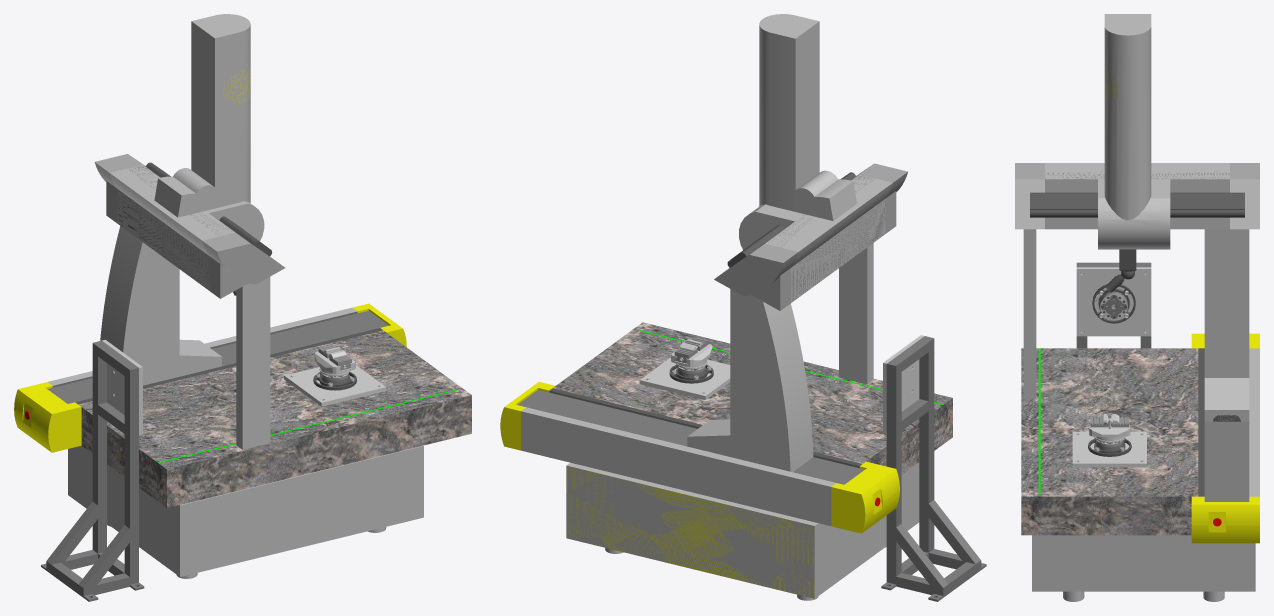
The model's file is CMM.glb.
3 views of the same model, side by side, from view 1: azimuth 30°, elevation 25°; view 2: azimuth 150°, elevation 25°; view 3: azimuth 270°, elevation 25° (orthographic). The views are drawn at different scales.
Visible parts, largest first — view 1: group_18.010, group_22, group_10, group_7, group_74.003, group_6, group_24.005, group_24.004, group_8.001, group_5, group_18.056, group_8.002 (+10 smaller); view 2: group_22.001, group_18.010, group_10, group_24.006, group_7, group_74.003, group_22, group_24.005, group_6, group_24.004, group_8.001, group_3 (+9 smaller); view 3: group_18.010, group_10, group_22, group_7, group_77.012, group_24.005, group_4, group_8, group_24.002, group_6, group_105.010, group_3 (+12 smaller).
Part boxes in pixels (box(x1,y1,x2,y2)): group_18.010: box(79, 330, 471, 507); group_22: box(68, 445, 423, 576); group_10: box(154, 14, 264, 241); group_7: box(100, 226, 221, 385); group_74.003: box(41, 340, 138, 601); group_6: box(236, 277, 270, 449); group_24.005: box(47, 310, 388, 403); group_24.004: box(14, 382, 81, 452); group_8.001: box(117, 188, 209, 290); group_5: box(202, 232, 285, 298); group_18.056: box(81, 407, 166, 507); group_8.002: box(109, 169, 218, 255); group_22.001: box(566, 465, 814, 598); group_18.010: box(553, 322, 952, 463); group_10: box(739, 14, 856, 250); group_24.006: box(521, 407, 836, 525); group_7: box(687, 289, 813, 472); group_74.003: box(886, 336, 986, 601); group_22: box(567, 462, 919, 598); group_24.005: box(518, 390, 864, 484); group_6: box(839, 243, 873, 384); group_24.004: box(831, 461, 899, 533); group_8.001: box(791, 199, 885, 302); group_3: box(714, 244, 798, 310); group_18.010: box(1021, 348, 1198, 535); group_10: box(1098, 14, 1170, 249); group_22: box(1032, 535, 1255, 591); group_7: box(1204, 229, 1249, 421); group_77.012: box(1076, 267, 1151, 336); group_24.005: box(1204, 421, 1249, 501); group_4: box(1030, 192, 1244, 217); group_8: box(1045, 179, 1229, 229); group_24.002: box(1191, 496, 1259, 543); group_6: box(1023, 229, 1036, 398); group_105.010: box(1072, 432, 1146, 467); group_3: box(1230, 163, 1259, 229).
Bounding box in the file's own units: 2.06 × 2.66 × 1.15.
13 materials, 1 textured.
